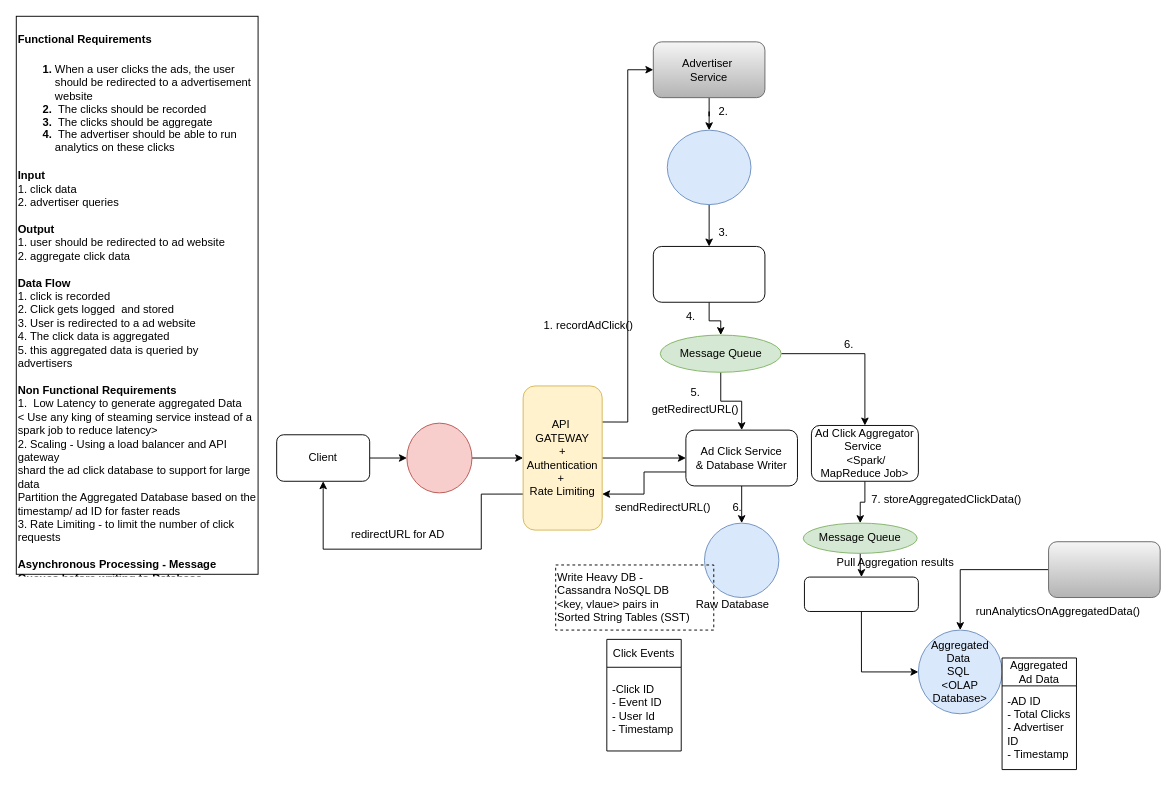
This 1176x786 diagram has some shape labels left out. Here are the shapes that lost their labels. From the top down, the centre of each, then its label:
At point (708, 167): "Ad Database <Ad ID Redirect URL metadata>".
At point (708, 274): "Data Watcher".
At point (439, 457): "Load Balancer".
At point (741, 560): "Ad Click Database".
At point (1104, 569): "Advertiser Processing Service".
At point (861, 593): "Database Writer".
